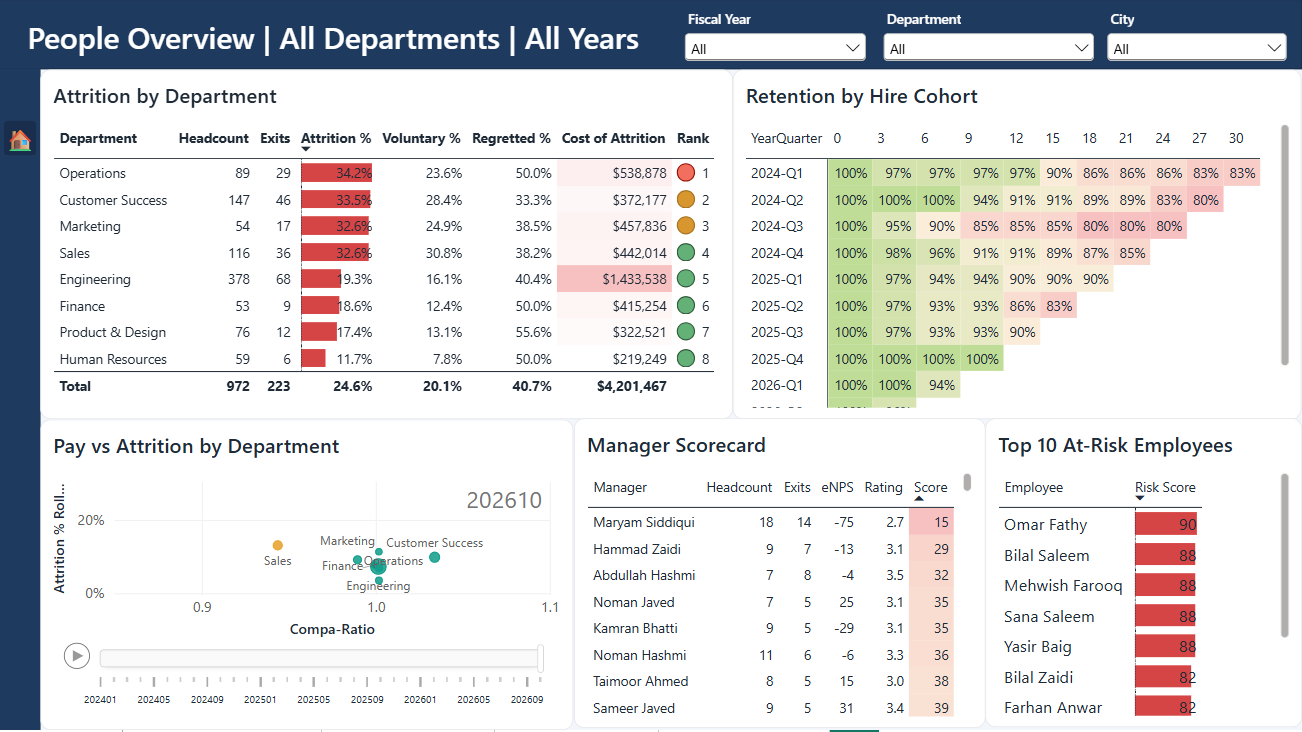

This screenshot's page, from the dashboard's own definition file:
{"tool":"powerbi","page":{"name":"Attrition & People","canvas":[1280,720],"ordinal":1},"visuals":[{"type":"shape","box":[0,0,1280.3,70.9],"z":0},{"type":"shape","box":[0,69.9,41,650.3],"z":1000},{"type":"cardVisual","fields":{"Data":["_Measures.Dynamic Title"]},"box":[0,9,930,60],"z":2000},{"type":"slicer","fields":{"Values":["Dim_Date.FiscalYear"]},"box":[656.4,1.2,211,256.4],"z":3000},{"type":"slicer","fields":{"Values":["Dim_Department.DepartmentName"]},"box":[851.5,1.2,240.5,67.5],"z":4000},{"type":"slicer","fields":{"Values":["Dim_Location.City"]},"box":[1070.8,1.2,210.2,65.8],"z":5000},{"type":"tableEx","title":"Attrition by Department","fields":{"Values":["Dim_Department.DepartmentName","_Measures.Headcount","_Measures.Exits","_Measures.Attrition %","_Measures.Voluntary Attrition %","_Measures.Regretted Exit Share %","_Measures.Cost of Attrition (USD)","_Measures.Department Attrition Rank"]},"box":[40.5,71.2,679.8,343.2],"z":6000},{"type":"pivotTable","title":"Retention by Hire Cohort","fields":{"Columns":["Months Since Hire.Months"],"Rows":["Dim_Date.YearQuarter"],"Values":["_Measures.Cohort Retention %"]},"box":[720.2,71.2,559.5,343.6],"z":7000},{"type":"scatterChart","title":"Pay vs Attrition by Department","fields":{"Category":["Dim_Department.DepartmentName"],"Play":["Dim_Date.YearMonthNo"],"Size":["_Measures.Headcount"],"X":["_Measures.Compa-Ratio"],"Y":["_Measures.Attrition % Rolling 12M"]},"box":[40.5,414.7,523.4,304.8],"z":8000},{"type":"tableEx","title":"Manager Scorecard ","fields":{"Values":["Dim_Manager.ManagerName","_Measures.Headcount","_Measures.Exits","_Measures.eNPS","_Measures.Avg Performance Rating","_Measures.Manager Effectiveness Score"]},"box":[564.4,413.5,403.7,304.3],"z":9000},{"type":"tableEx","title":"Top 10 At-Risk Employees","fields":{"Values":["Dim_Employee.FullName","_Measures.Flight Risk Score (Emp)"]},"box":[968.1,413.5,311.7,303.1],"z":10000},{"type":"actionButton","box":[0,116.6,41.7,44.2],"z":11000}]}

Visuals, with their boxes in screenshot pixels (x1, y1, x2, y2), scaled from the page's 1280x720 canvas onto the 1302x732 screenshot:
shape: {"x1": 0, "y1": 0, "x2": 1301, "y2": 72}
shape: {"x1": 0, "y1": 71, "x2": 42, "y2": 731}
cardVisual - _Measures.Dynamic Title: {"x1": 0, "y1": 9, "x2": 946, "y2": 70}
slicer - Dim_Date.FiscalYear: {"x1": 668, "y1": 1, "x2": 882, "y2": 262}
slicer - Dim_Department.DepartmentName: {"x1": 866, "y1": 1, "x2": 1111, "y2": 70}
slicer - Dim_Location.City: {"x1": 1089, "y1": 1, "x2": 1301, "y2": 68}
"Attrition by Department" tableEx: {"x1": 41, "y1": 72, "x2": 733, "y2": 421}
"Retention by Hire Cohort" pivotTable: {"x1": 733, "y1": 72, "x2": 1301, "y2": 422}
"Pay vs Attrition by Department" scatterChart: {"x1": 41, "y1": 422, "x2": 574, "y2": 731}
"Manager Scorecard " tableEx: {"x1": 574, "y1": 420, "x2": 985, "y2": 730}
"Top 10 At-Risk Employees" tableEx: {"x1": 985, "y1": 420, "x2": 1301, "y2": 729}
actionButton: {"x1": 0, "y1": 119, "x2": 42, "y2": 163}
